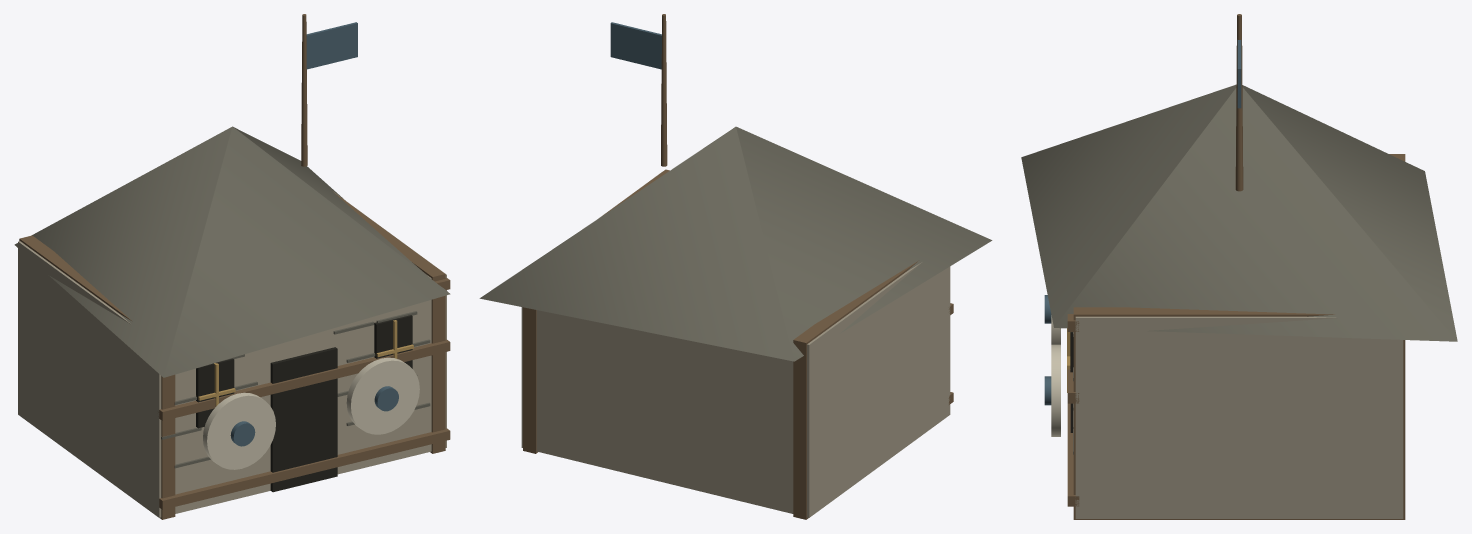
The model's file is b-range.glb.
3 renders of one model, left to right at view 1: azimuth 30°, elevation 25°; view 2: azimuth 150°, elevation 25°; view 3: azimuth 270°, elevation 25°, orthographic. The views are drawn at different scales.
Visible parts, largest first — view 1: Structure; view 2: Structure; view 3: Structure.
Part boxes in pixels (left/top/right/bottom): Structure: left=14, top=14, right=450, bottom=519; Structure: left=479, top=14, right=992, bottom=519; Structure: left=1021, top=14, right=1457, bottom=519.
Size of the model in its own units: 4.53 by 5.33 by 4.53.
